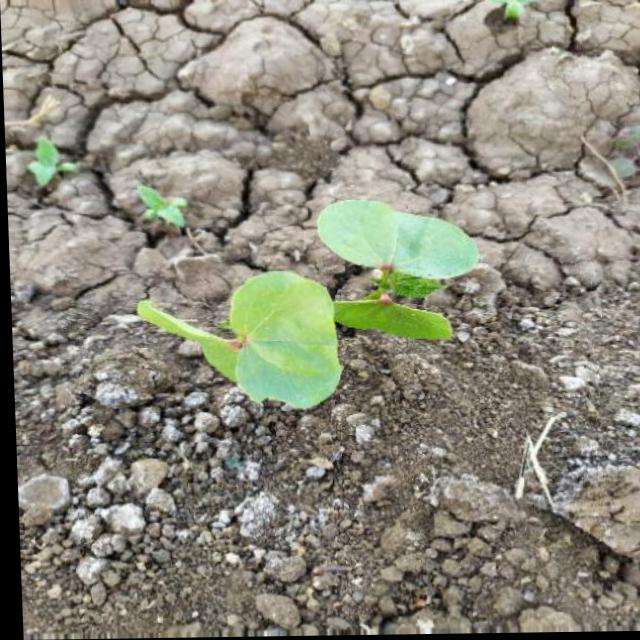weed: (124, 180, 528, 409)
